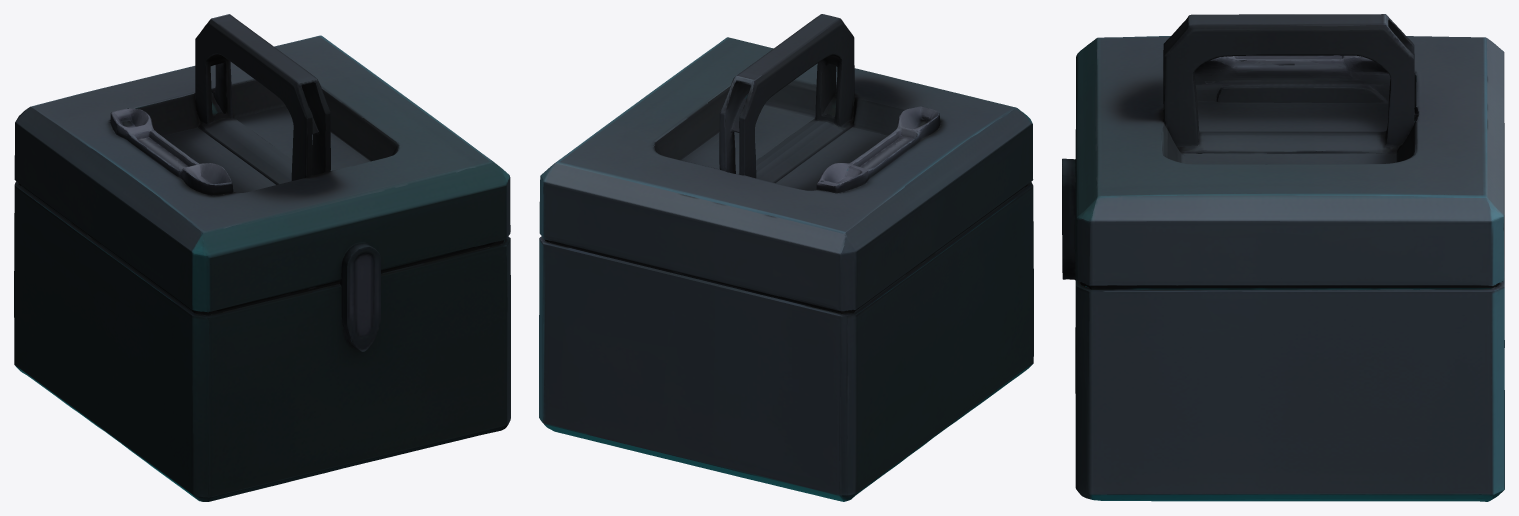
The model's file is ferramenta-3d-2.glb.
The picture shows the model from 3 angles, left to right: view 1: azimuth 30°, elevation 25°; view 2: azimuth 150°, elevation 25°; view 3: azimuth 270°, elevation 25°; orthographic projection. The views are drawn at different scales.
Parts seen in each view (by area): view 1: world; view 2: world; view 3: world.
Part boxes in pixels (x1,y1,x2,y2): world: [14, 14, 510, 501]; world: [539, 14, 1033, 501]; world: [1062, 14, 1504, 501].
Size of the model in its own units: 0.927 by 0.9951 by 0.9909.
Materials: 1 (1 with a texture image).
